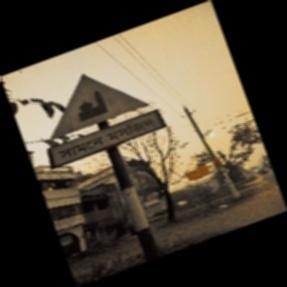Mosque in front: (46, 73, 165, 169)
